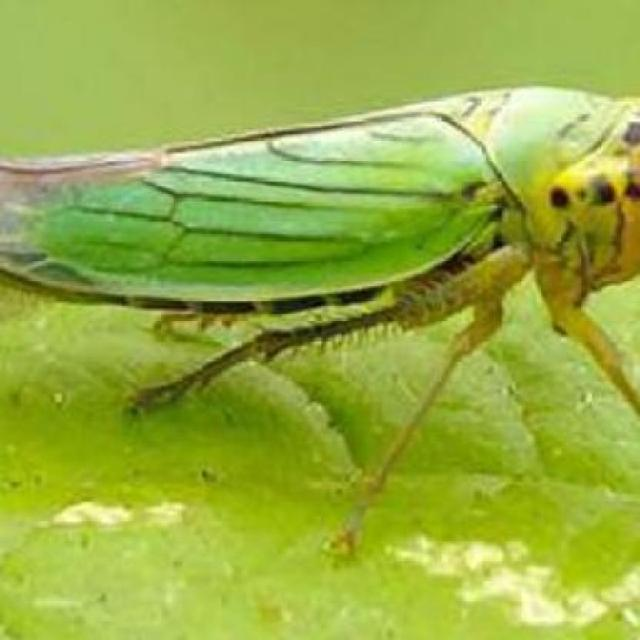green-leafhopper: (3, 88, 640, 491)
